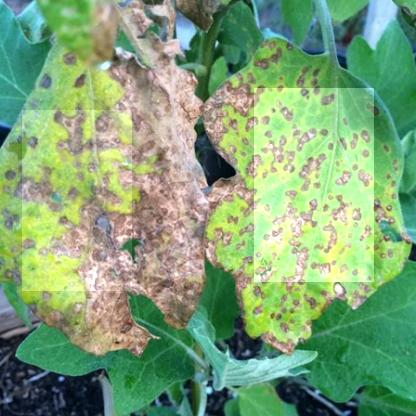black-spot: (254, 88, 374, 282), (22, 110, 132, 291)
